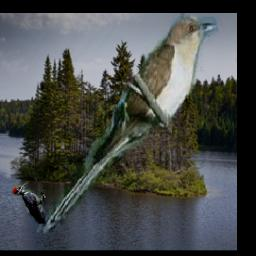Cuckoo: (37, 13, 220, 241)
Woodpecker: (13, 181, 46, 224)
